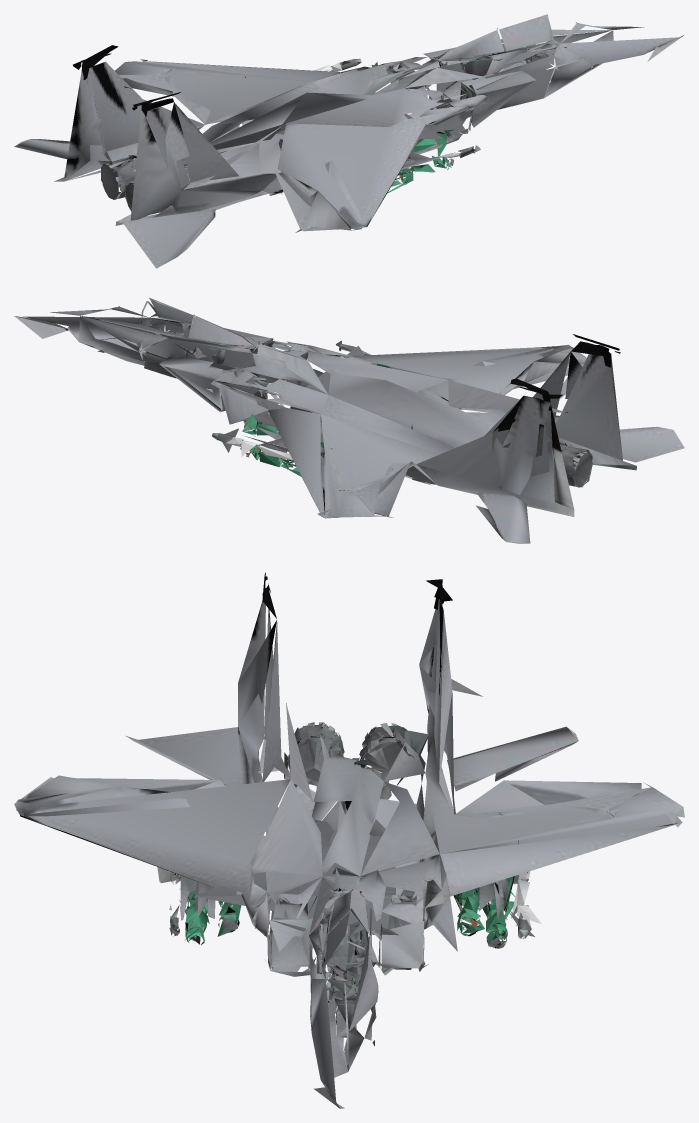
The picture shows the model from 3 angles, top to bottom: view 1: azimuth 30°, elevation 25°; view 2: azimuth 150°, elevation 25°; view 3: azimuth 270°, elevation 25°; orthographic projection. The views are drawn at different scales.
Visible parts, largest first — view 1: g_f15ex_hull; view 2: g_f15ex_hull; view 3: g_f15ex_hull.
Boxes of the visible parts, box(x1,y1,x2,y2) form: g_f15ex_hull: box(14, 14, 683, 268); g_f15ex_hull: box(14, 297, 684, 543); g_f15ex_hull: box(14, 572, 684, 1108).
Size of the model in its own units: 19.15 by 4.28 by 12.86.
1 material, 1 textured.
